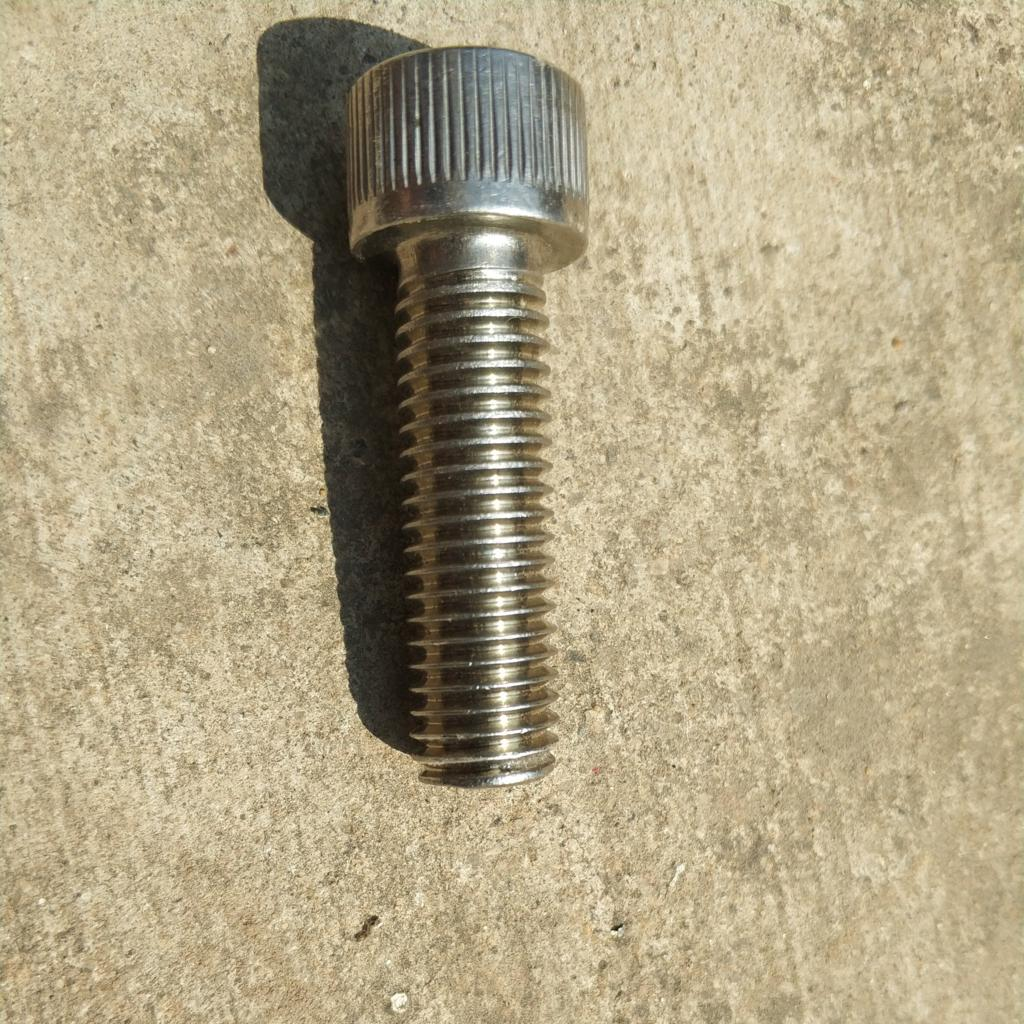screwtype1silver: (326, 39, 618, 798)
